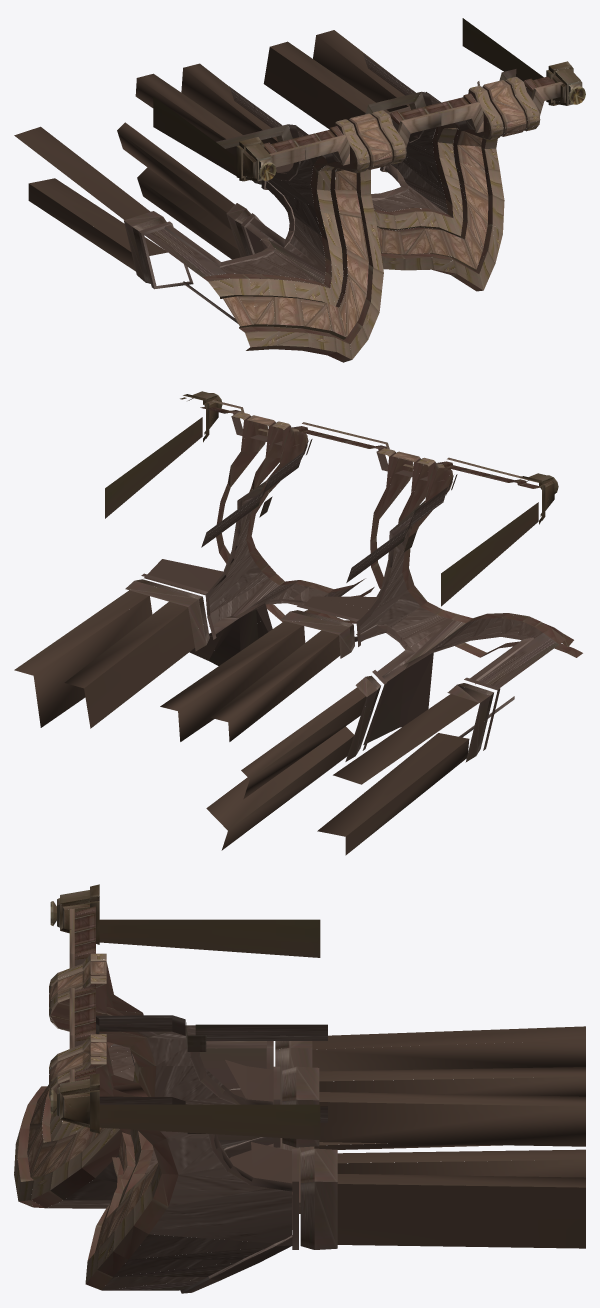
The picture shows the model from 3 angles, top to bottom: view 1: azimuth 30°, elevation 25°; view 2: azimuth 150°, elevation 25°; view 3: azimuth 270°, elevation 25°; orthographic projection. The views are drawn at different scales.
Visible parts, largest first — view 1: model_Object45; view 2: model_Object45; view 3: model_Object45.
Boxes of the visible parts, box(x1,y1,x2,y2) form: model_Object45: box(14, 18, 585, 362); model_Object45: box(14, 391, 582, 855); model_Object45: box(14, 884, 585, 1293).
Bounding box in the file's own units: 7.51 × 4.39 × 8.21.
1 material, 1 textured.
